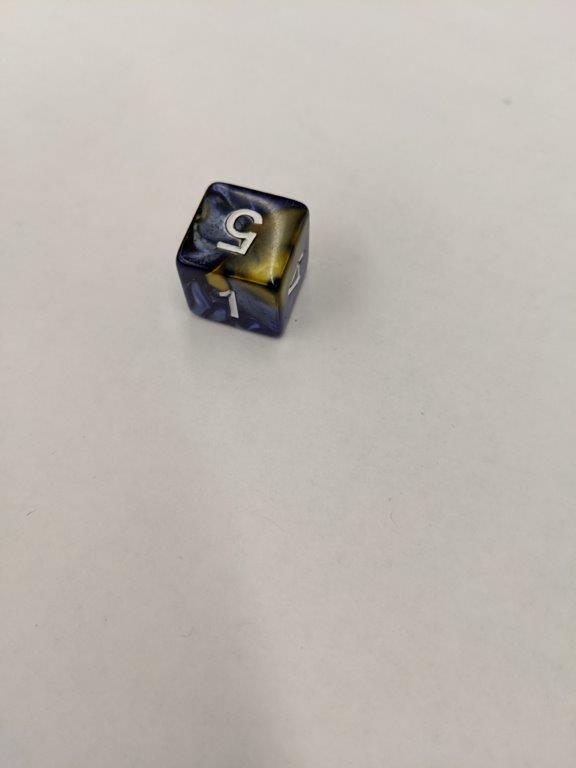d6-5: (175, 181, 311, 338)
